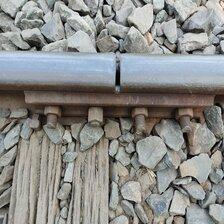railway-gap: (90, 50, 145, 97)
